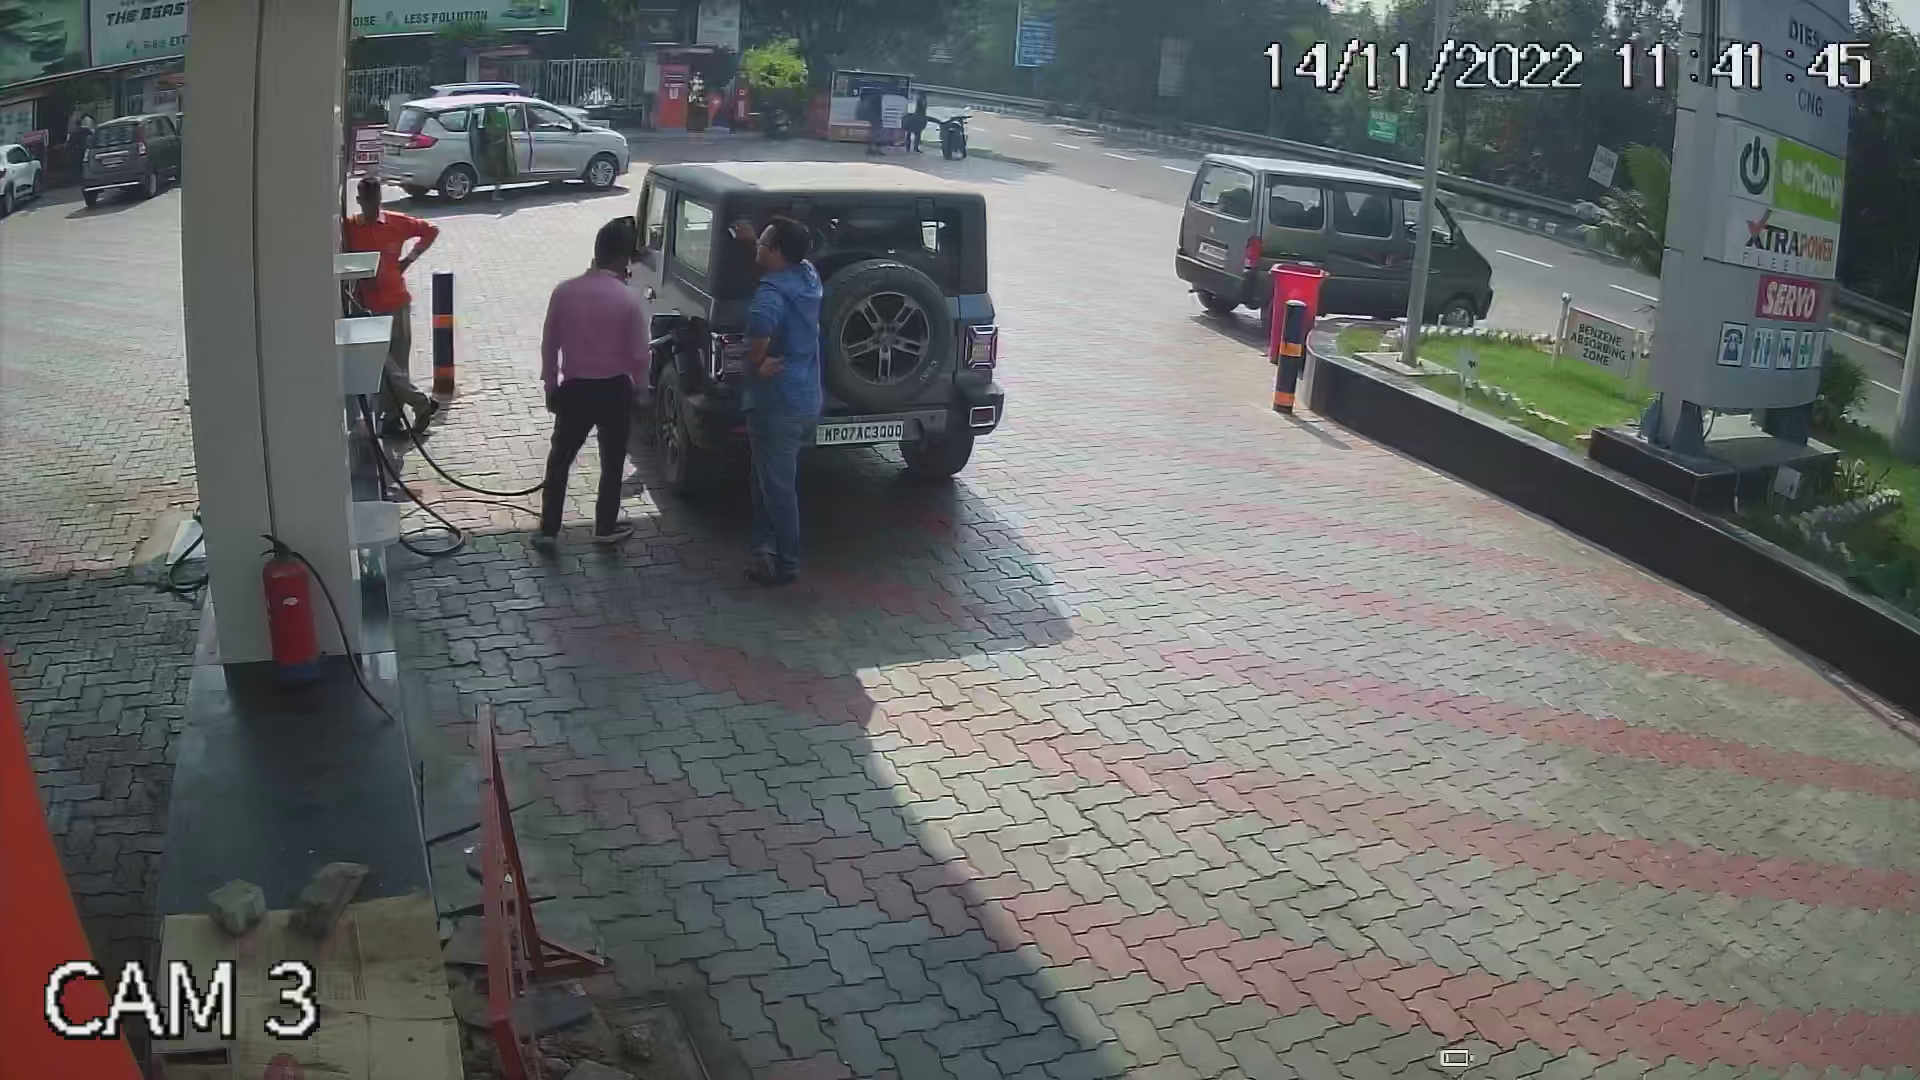Bike: (931, 102, 978, 167)
Car: (595, 135, 1011, 508), (1171, 142, 1501, 342), (375, 86, 637, 208), (74, 100, 190, 207), (0, 129, 51, 228)
Others: (340, 166, 443, 446)
